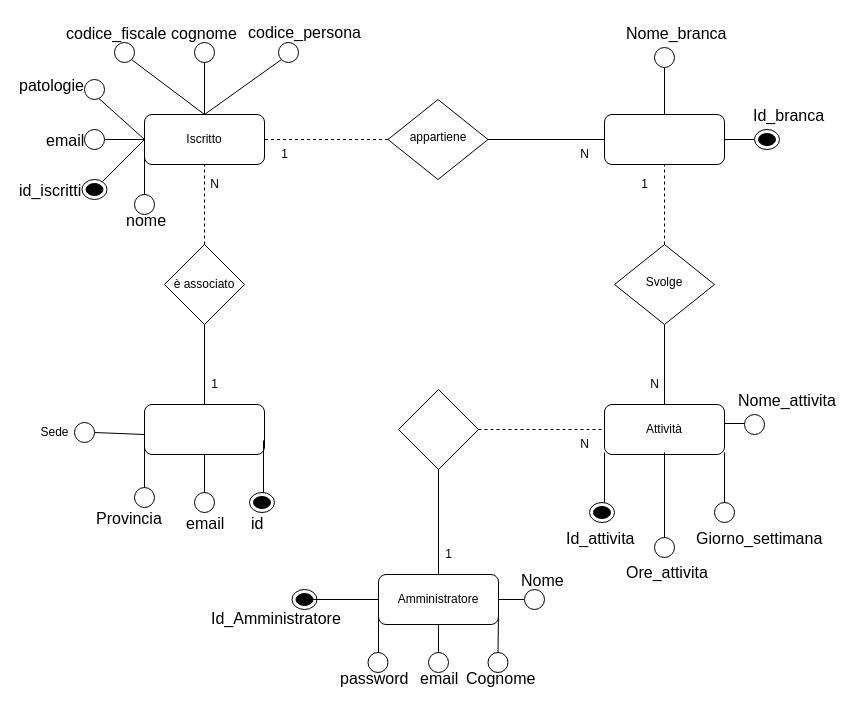
This 859x709 diagram has some shape labels left out. The shapes that lost their labels are listed below. From the top down, each one's box as (x1, y1, x2, y2) in pixels, then its label:
(604, 114, 724, 164): Branca
(144, 404, 264, 454): Sedi_scout
(398, 388, 478, 470): Inserito
